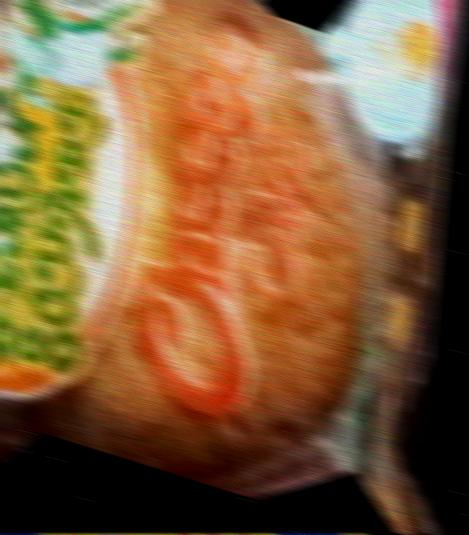lemon square: (0, 0, 469, 534)
reno: (0, 534, 378, 535)
